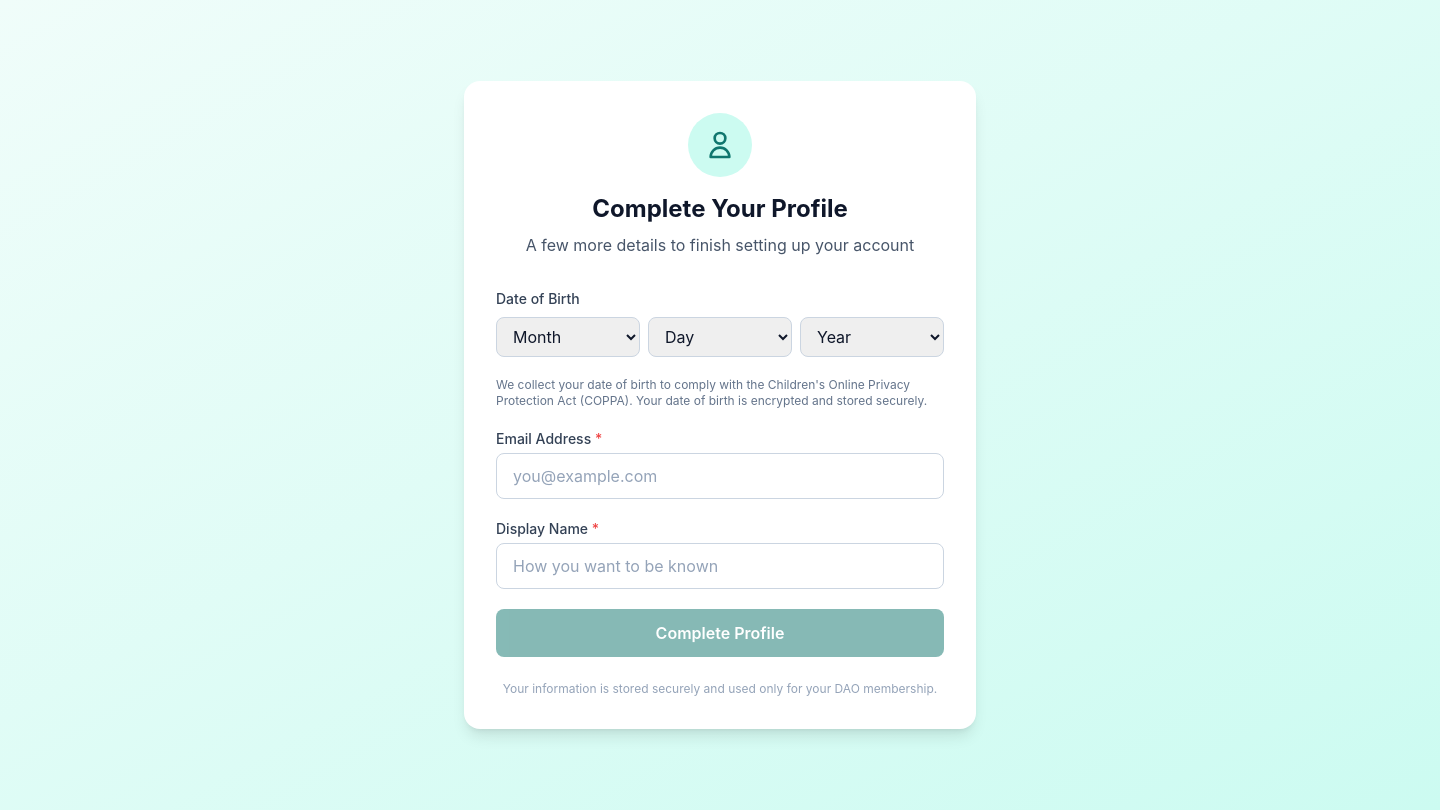
CompleteProfile › shows email validation error for invalid email
Type "not-an-email" into the field labelled "Email Address *". click: point(720, 476)
box: [496,453,944,499]
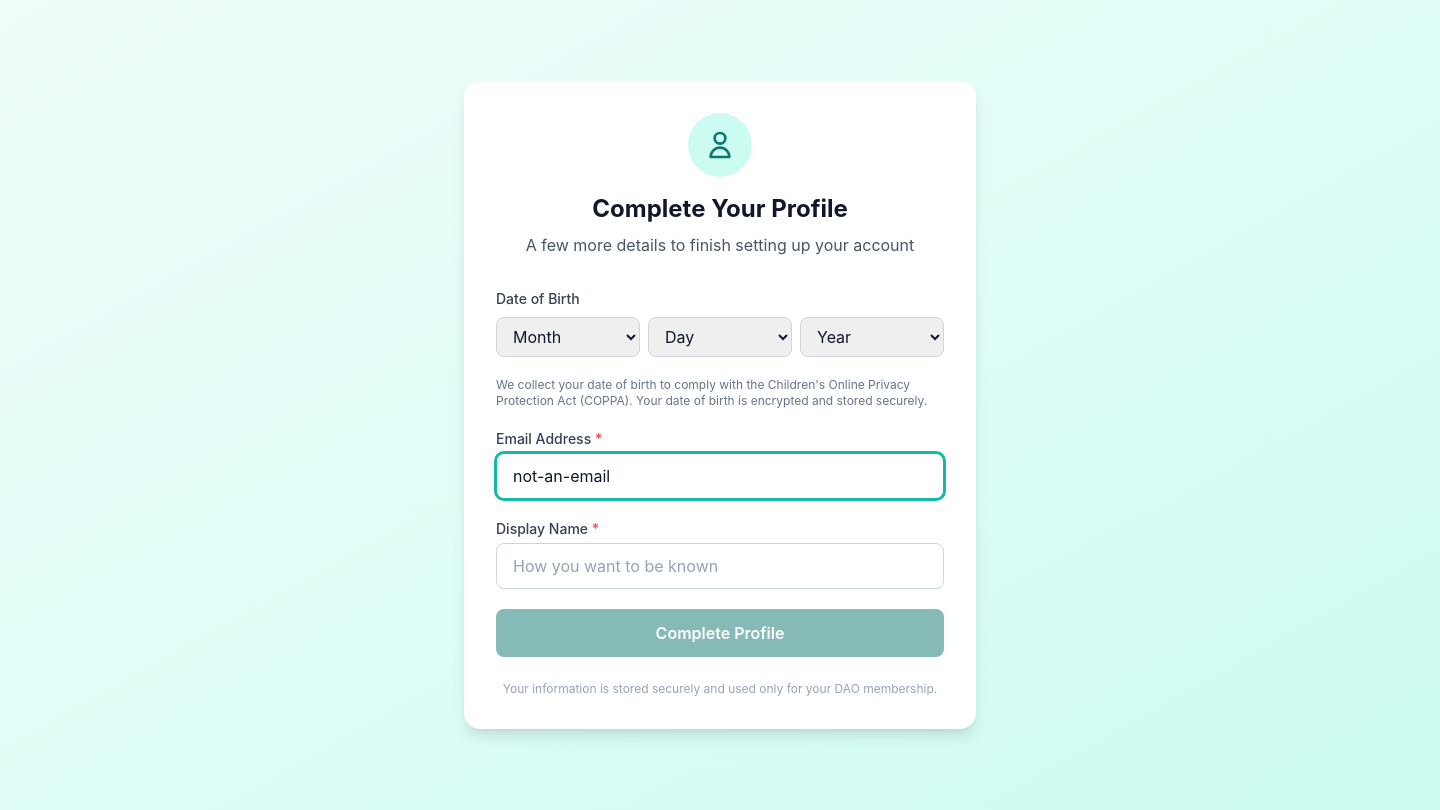
Leave the field labelled "Email Address *", box [496,453,944,499]
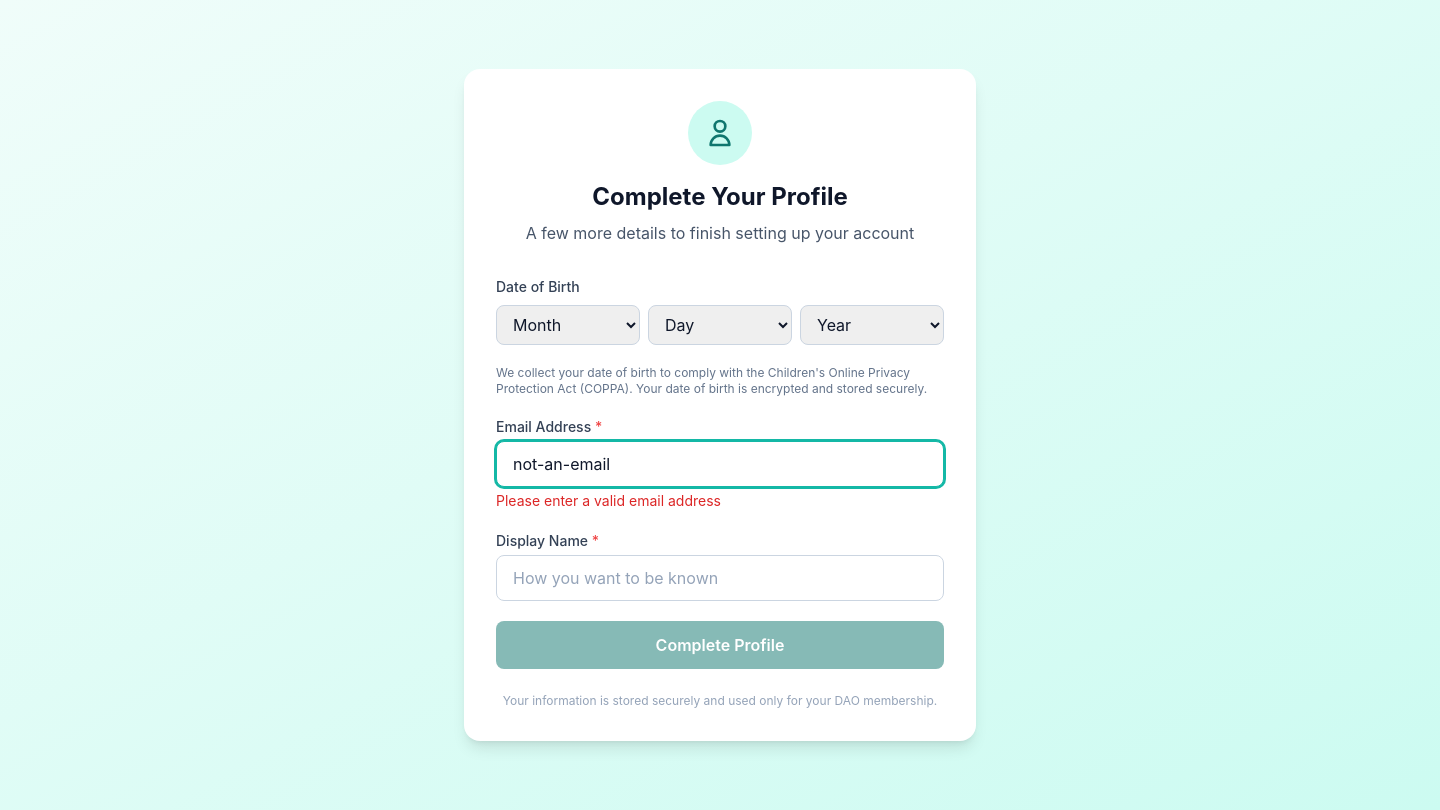
Check: the text "Please enter a valid email address" is shown, box [496,492,721,509]
